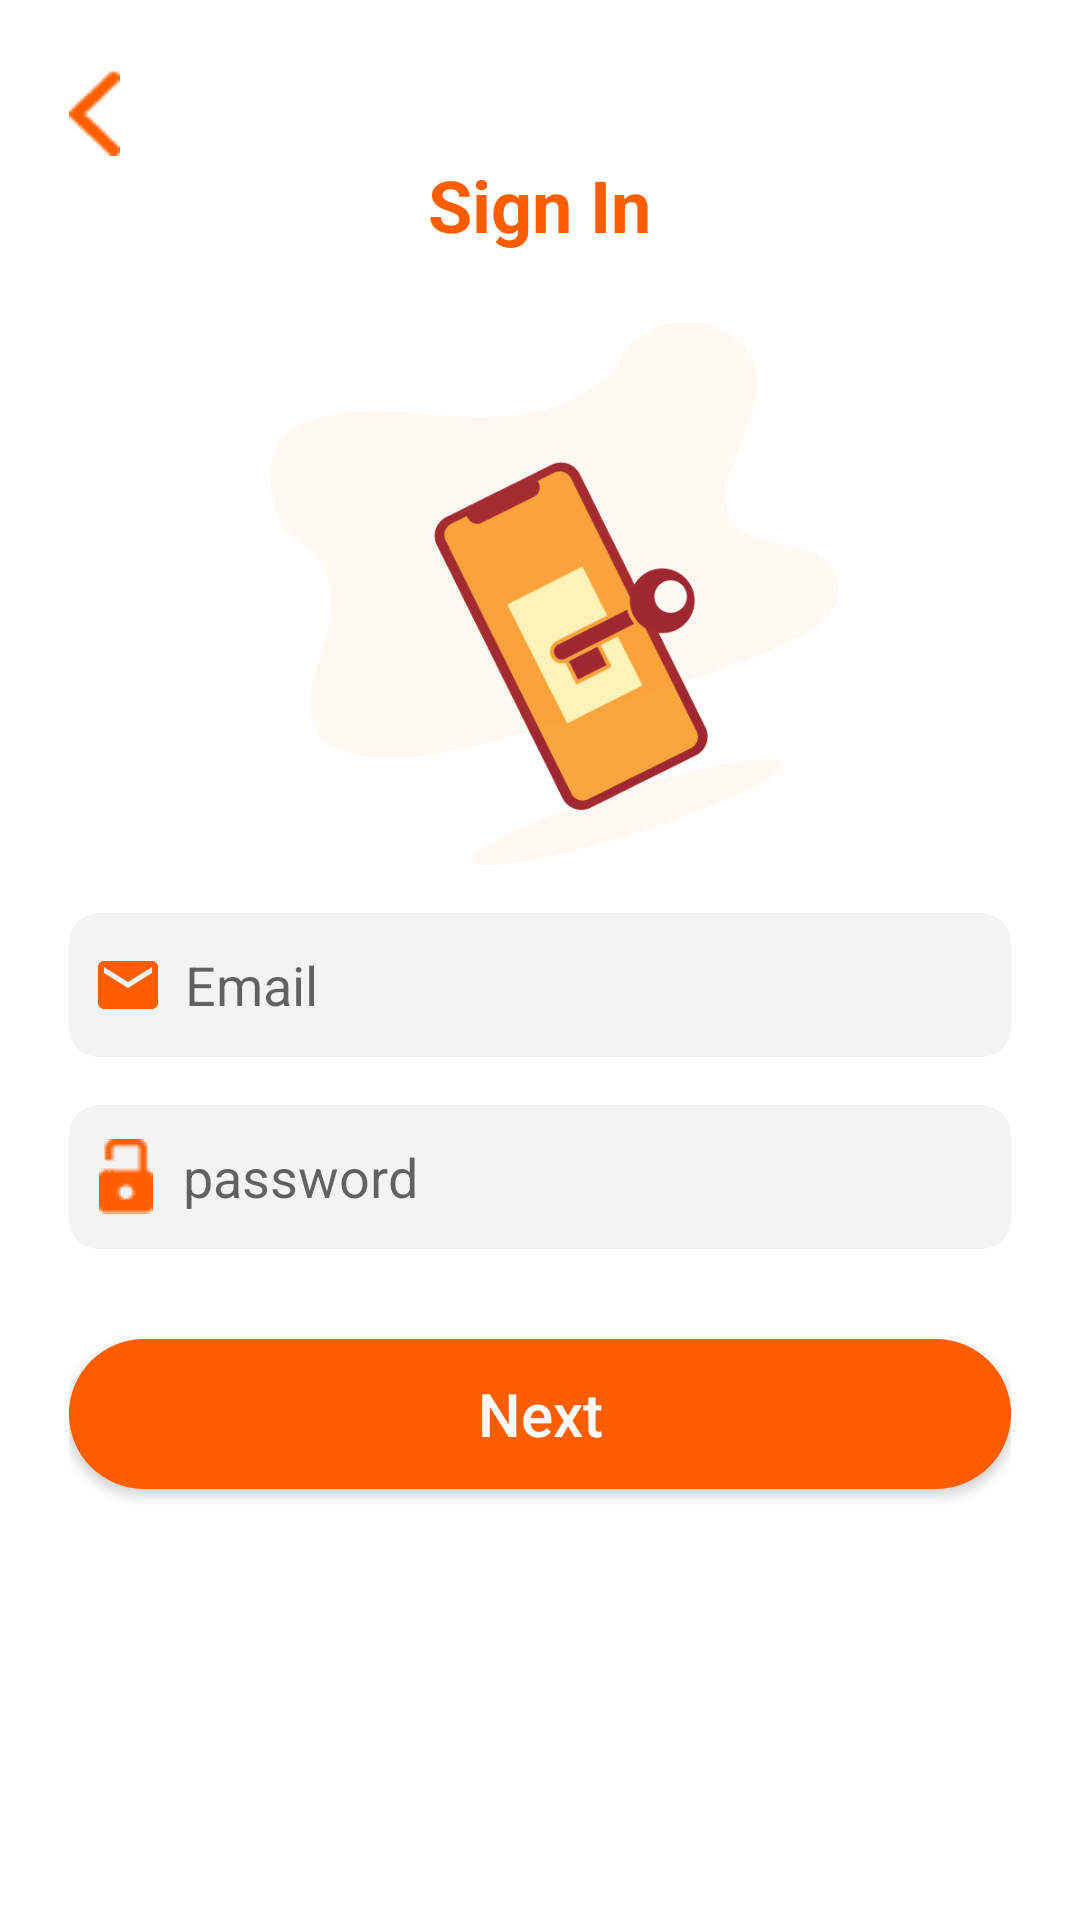

Locate icon controls on the screen. Image size 1080*1920, boxes as Rect(x1, y1, x2, y2).
back: Rect(69, 71, 120, 156)
